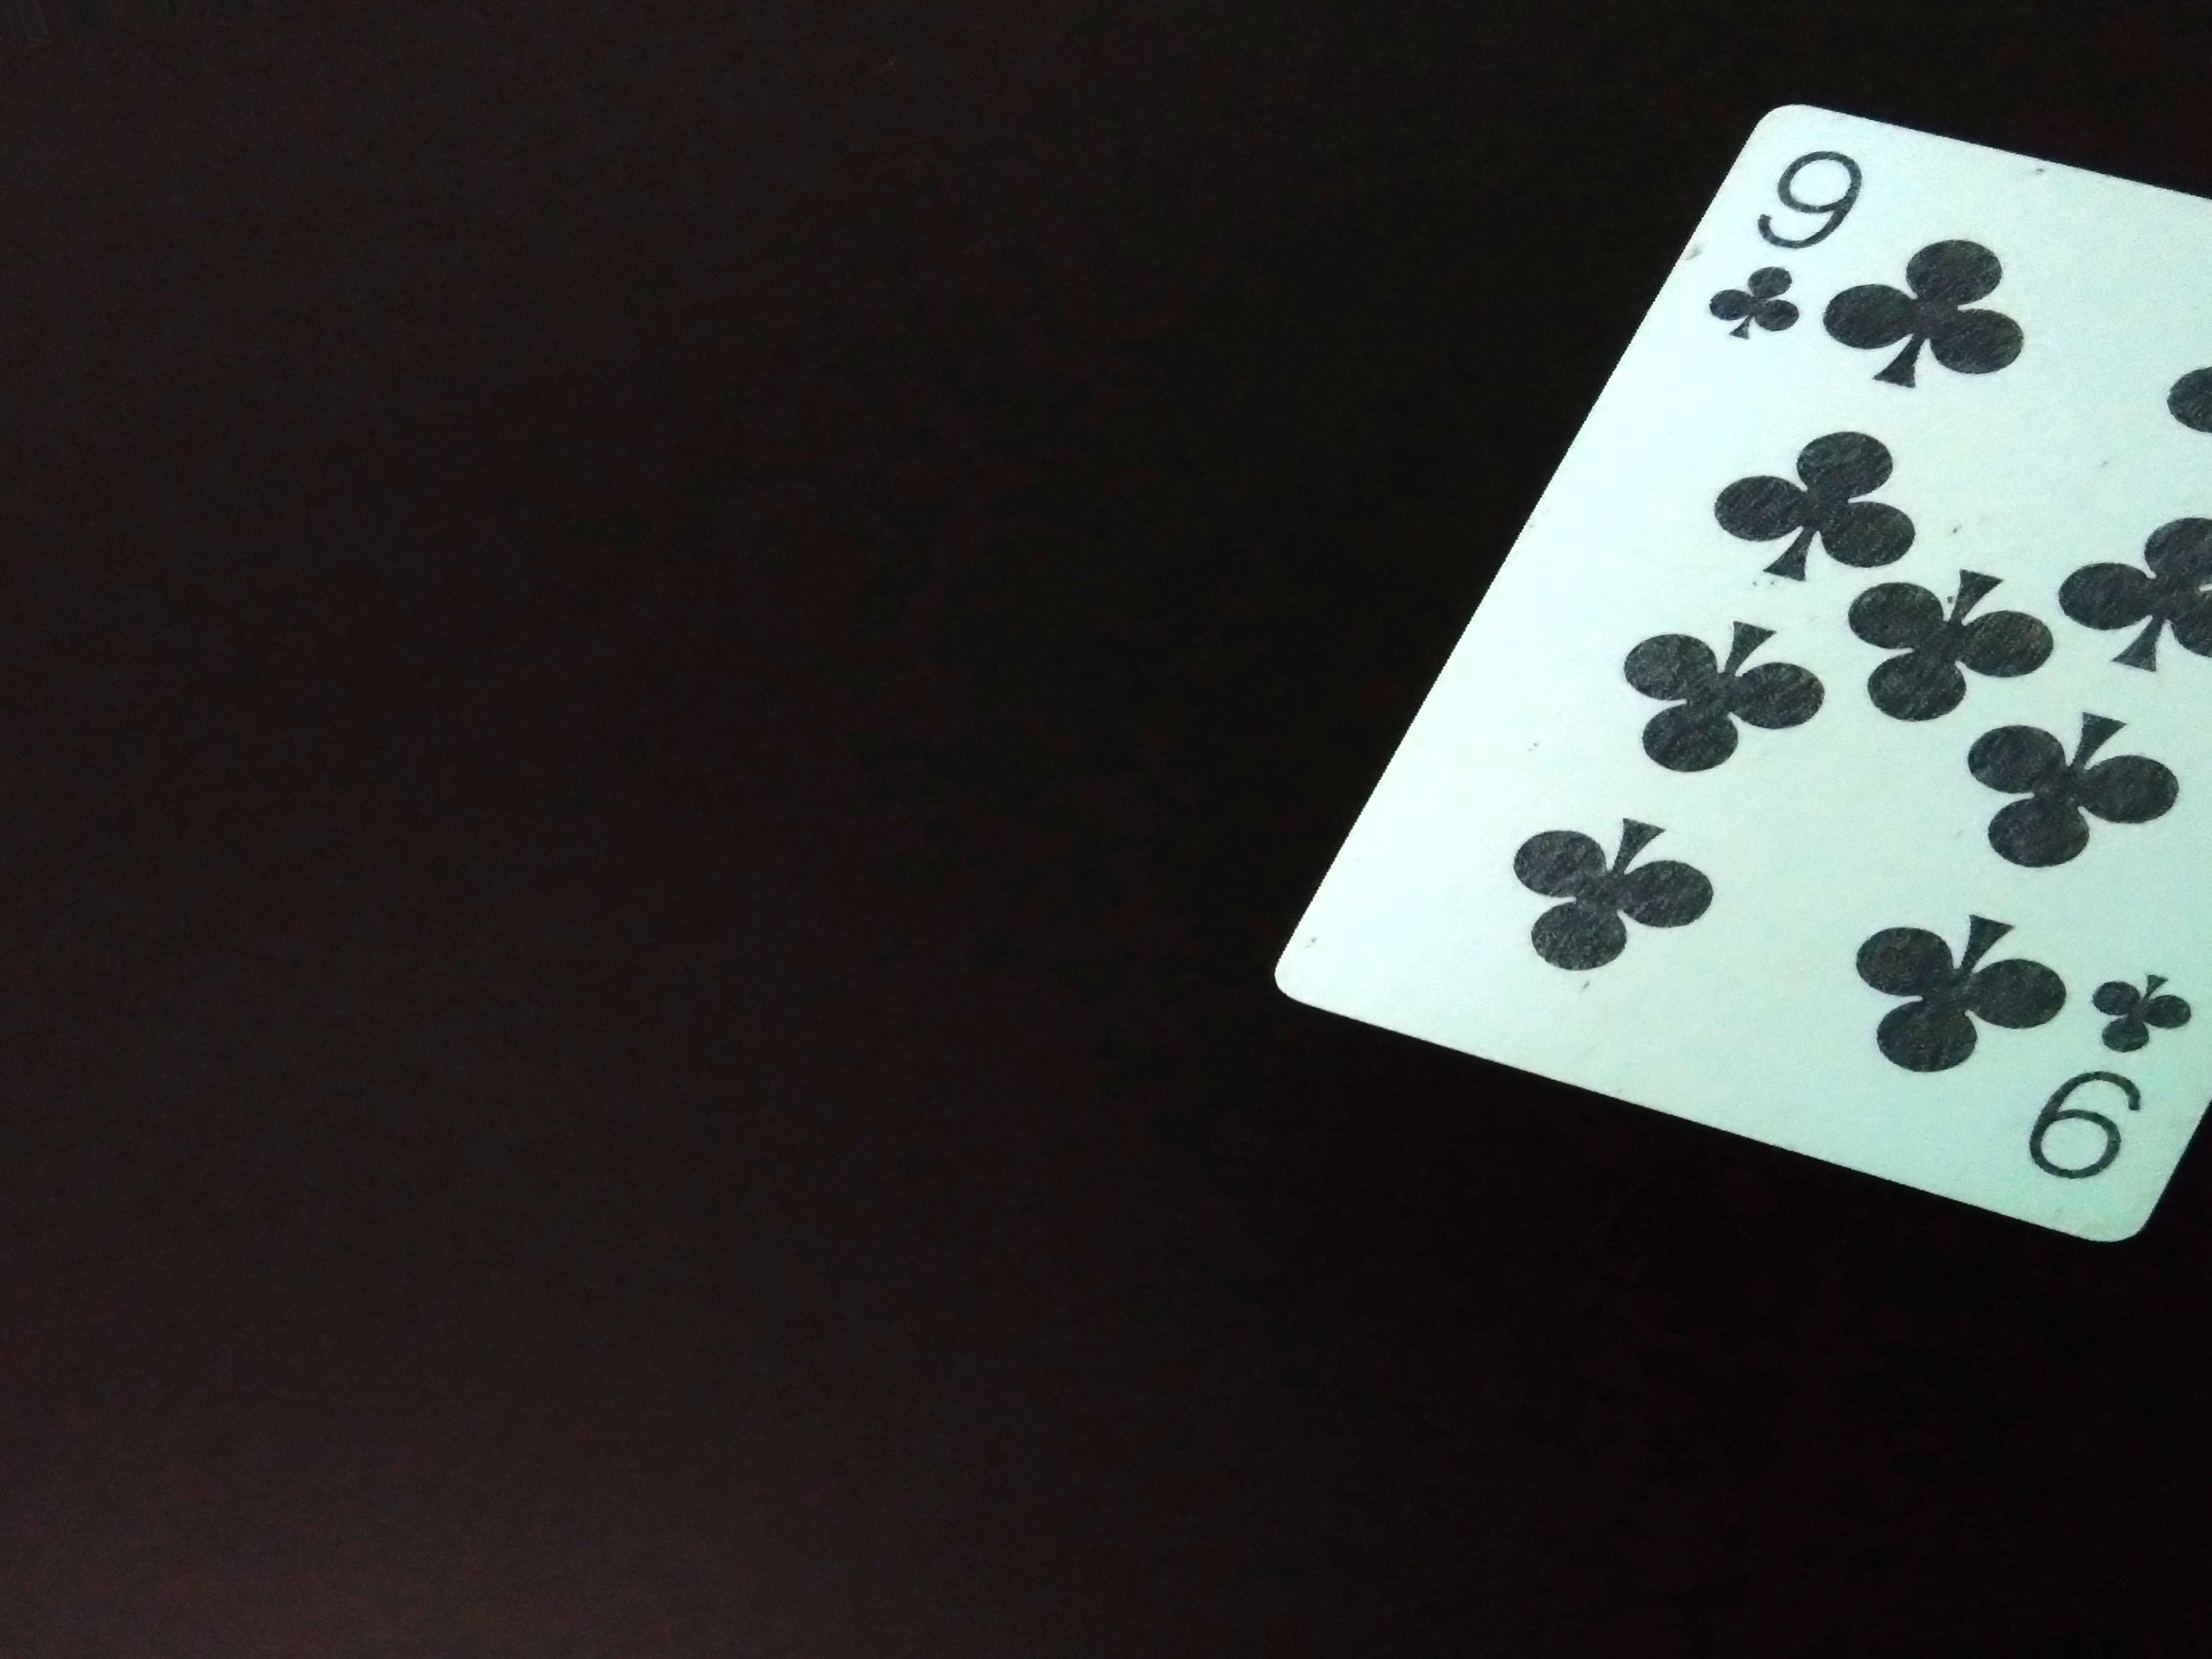9C: (1688, 146, 1867, 355)
